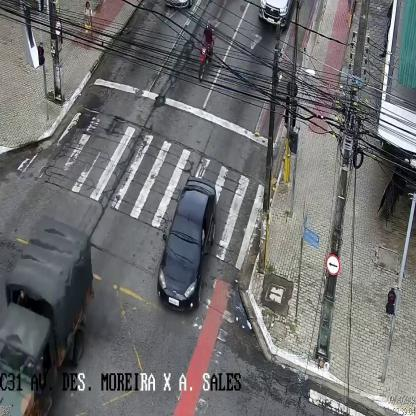car: (157, 176, 216, 312)
motorbike: (198, 21, 214, 81)
person: (83, 1, 93, 49)
truck: (1, 215, 94, 415)
